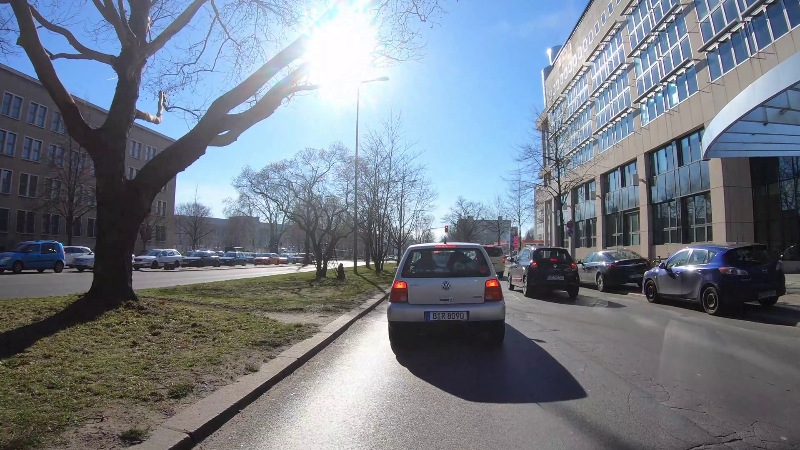Plate: (424, 310, 470, 320), (755, 289, 776, 298), (544, 274, 566, 281), (628, 272, 642, 278)
